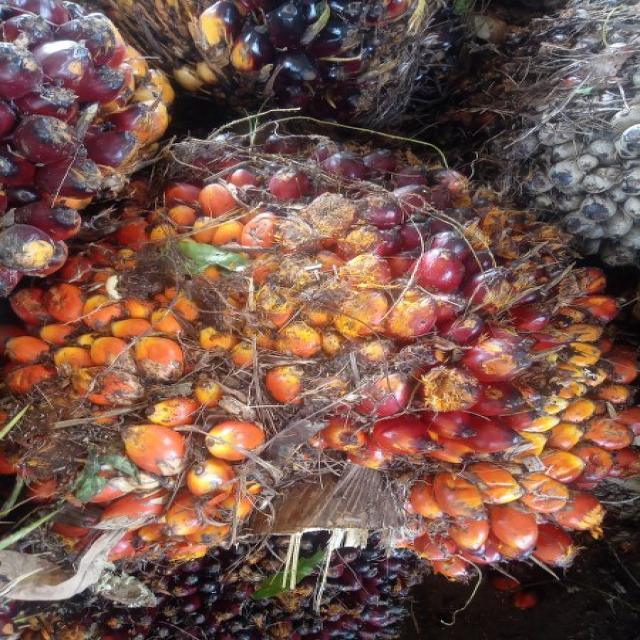fraksi 3: (0, 84, 640, 610)
